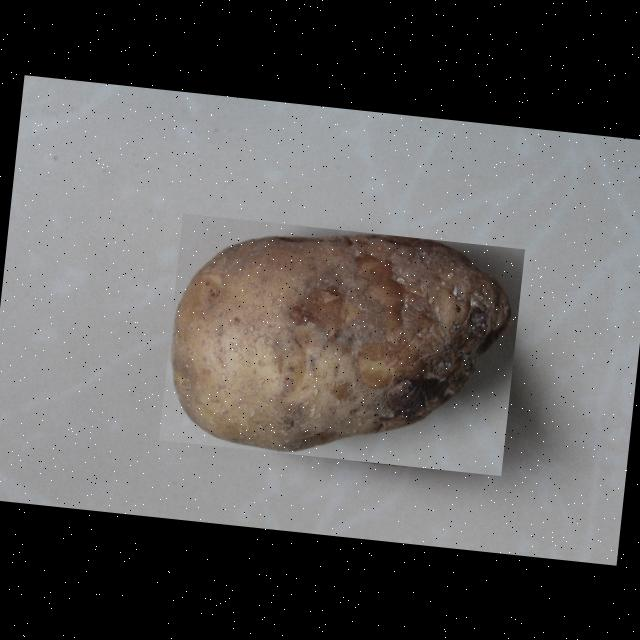Diseased-fungal potato: (158, 213, 524, 476)
